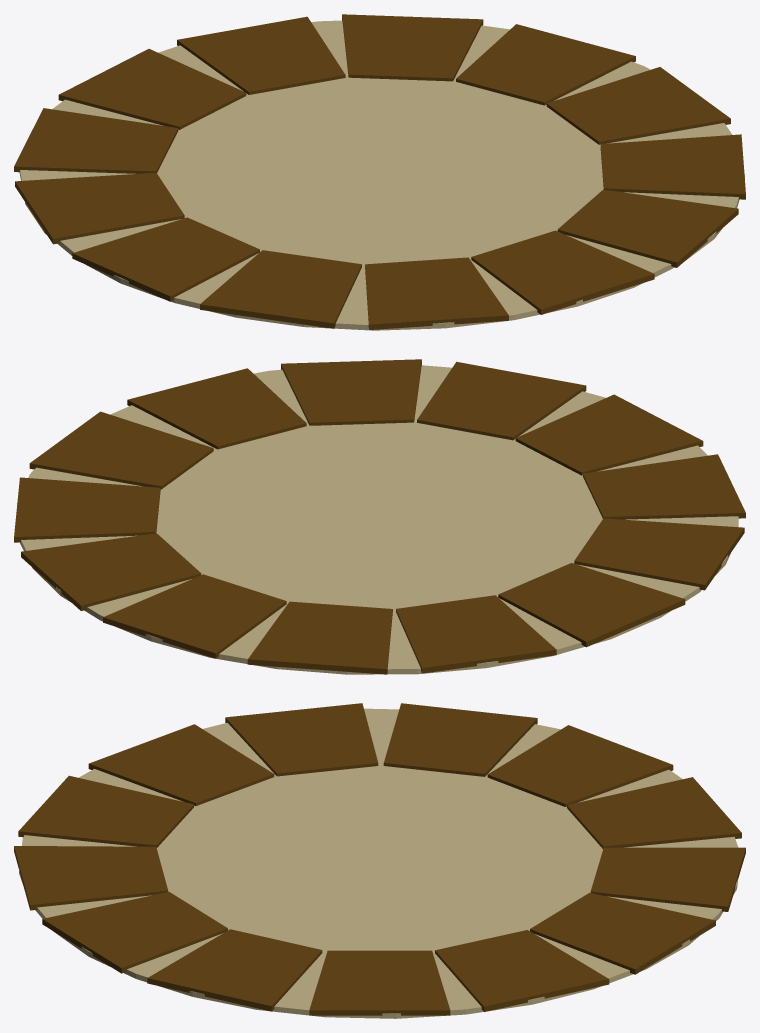
The model's file is TheTownSquareCircle.fbx.
The picture shows the model from 3 angles, top to bottom: view 1: azimuth 30°, elevation 25°; view 2: azimuth 150°, elevation 25°; view 3: azimuth 270°, elevation 25°; orthographic projection.
Parts seen in each view (by area): view 1: Plane.001; view 2: Plane.001; view 3: Plane.001.
Boxes of the visible parts, x1=… form: Plane.001: x1=14, y1=14, x2=745, y2=330; Plane.001: x1=14, y1=359, x2=745, y2=674; Plane.001: x1=14, y1=703, x2=745, y2=1018.
Size of the model in its own units: 2062 by 26.01 by 2075.
